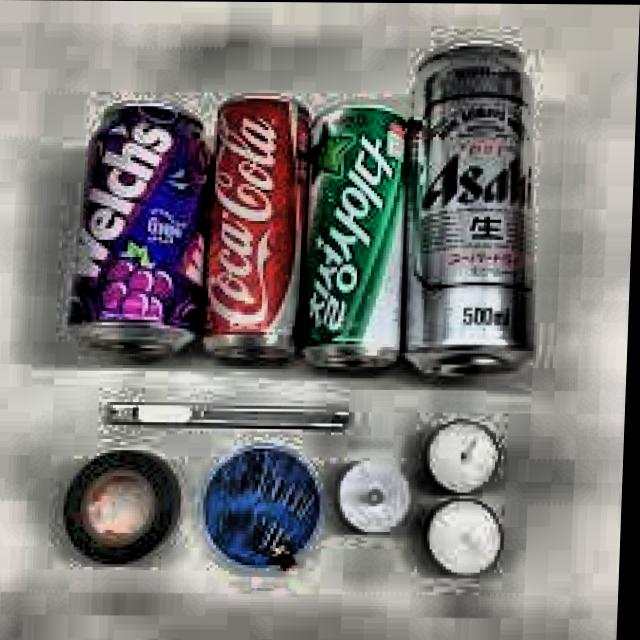can: (398, 34, 552, 381), (59, 91, 218, 357), (299, 97, 420, 377), (199, 90, 318, 365)
